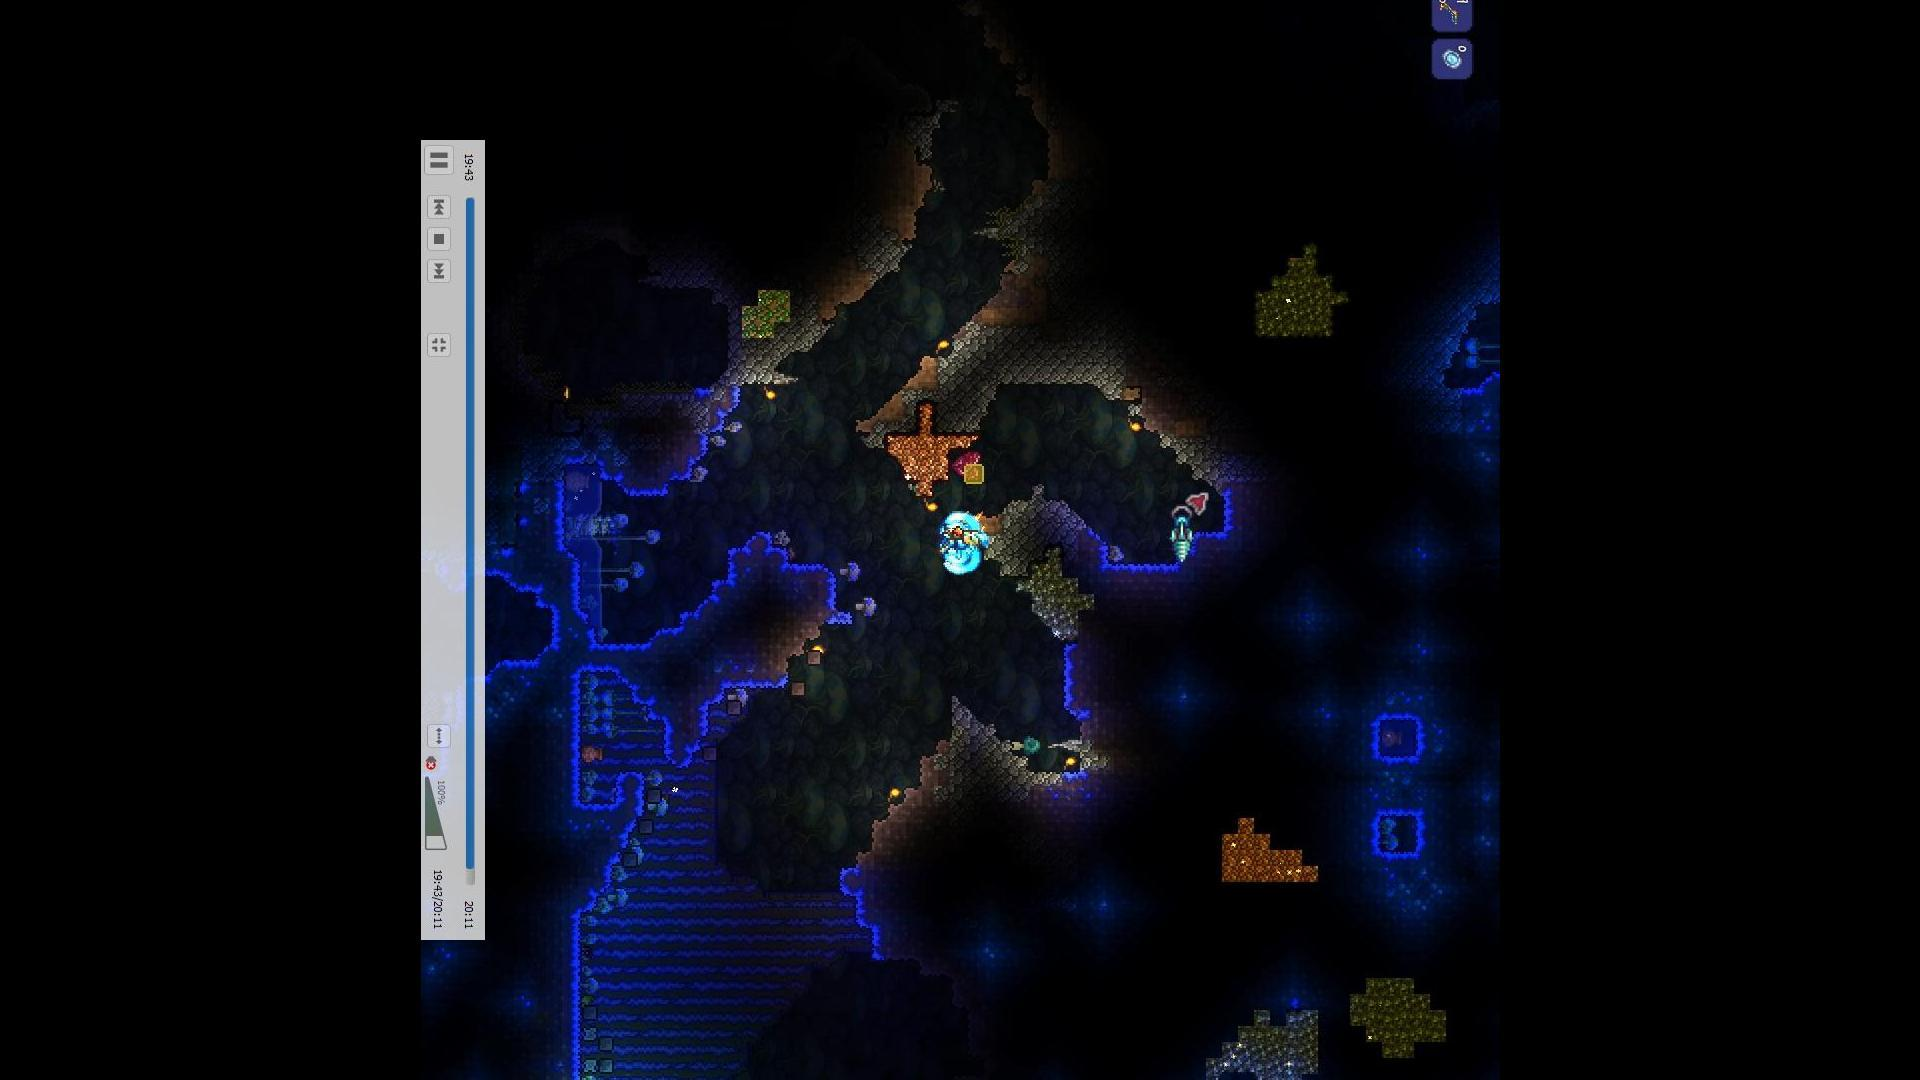lifeC: (948, 448, 982, 485)
pot: (582, 740, 611, 769)
